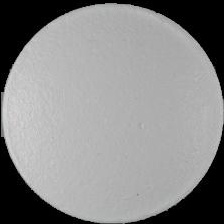0093-5271: (0, 0, 224, 224)
